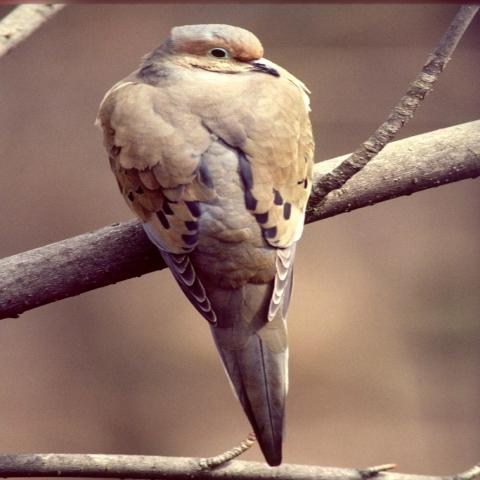bird: (93, 22, 317, 466)
